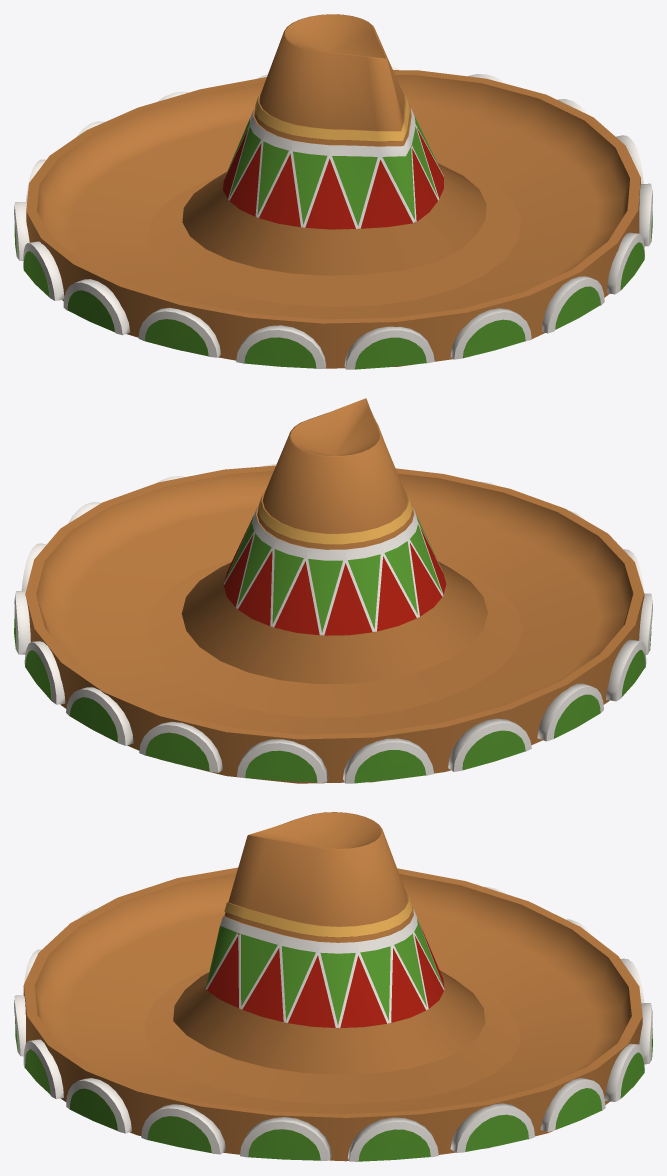
Rendered from Sombrero.fbx.
3 views of the same model, one above another, from view 1: azimuth 30°, elevation 25°; view 2: azimuth 150°, elevation 25°; view 3: azimuth 270°, elevation 25° (orthographic).
Parts seen in each view (by area): view 1: Sombrero; view 2: Sombrero; view 3: Sombrero.
Boxes of the visible parts, left/top/right/bottom form: Sombrero: left=14, top=14, right=652, bottom=369; Sombrero: left=14, top=398, right=652, bottom=783; Sombrero: left=14, top=812, right=652, bottom=1161.
Size of the model in its own units: 66.73 by 25.55 by 66.22.
